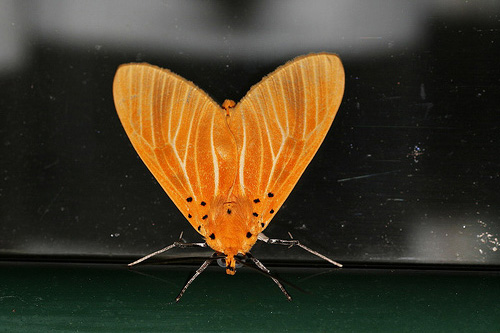Agape chloropyga: (110, 49, 349, 305)
moth: (112, 51, 351, 307)
